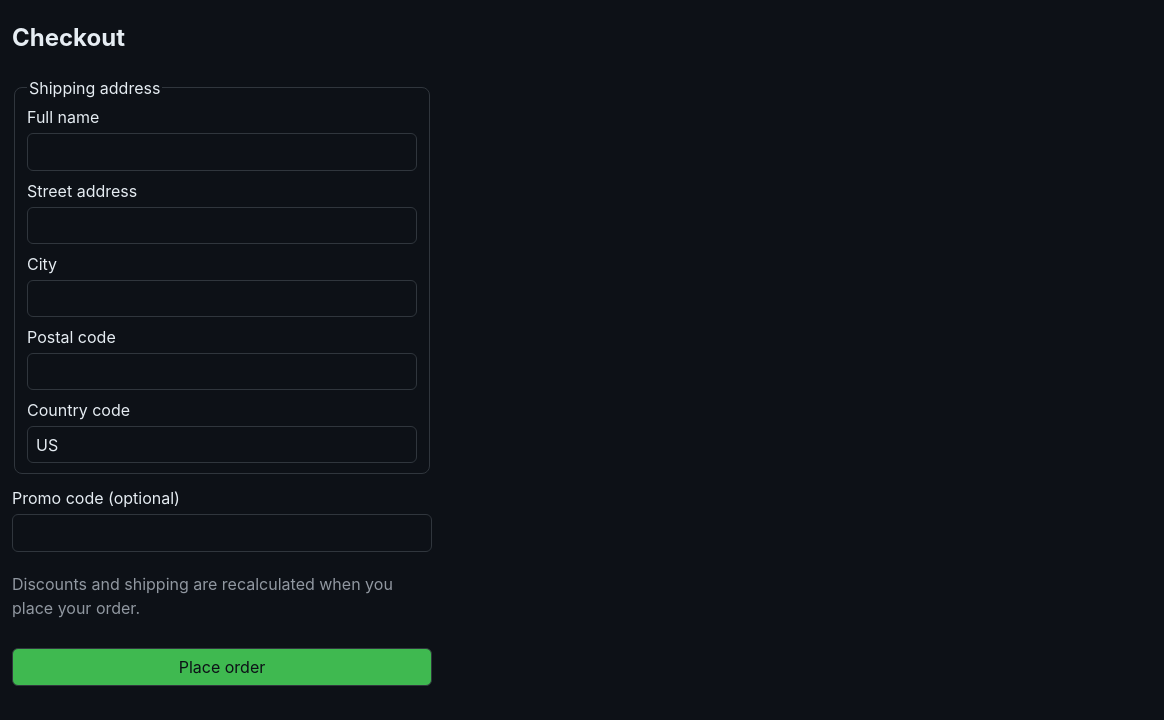
it: CheckoutForm › places an order and shows the API totals
Type "Mona" into the field labelled "Full name".
click(222, 152); type("Mona")  # box left=27, top=133, right=417, bottom=171
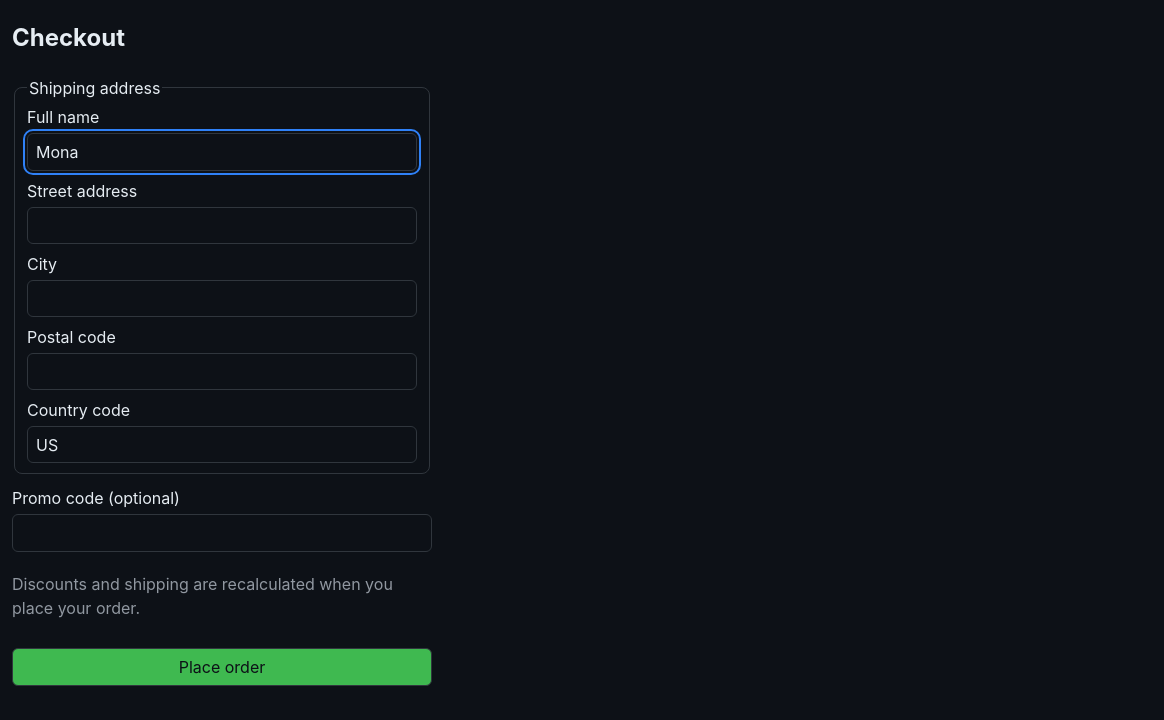
Type "88 Colin P Kelly Jr St" into the field labelled "Street address".
click(222, 225); type("88 Colin P Kelly Jr St")  # box left=27, top=207, right=417, bottom=244
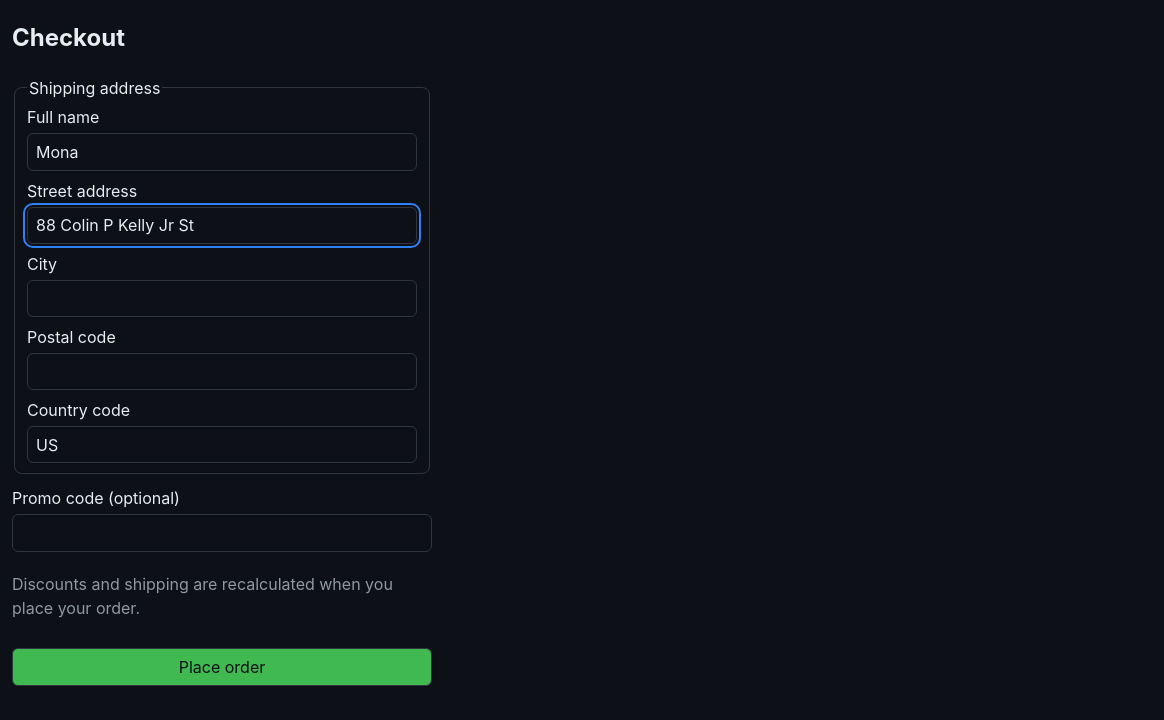
Type "San Francisco" into the field labelled "City".
click(222, 298); type("San Francisco")  # box left=27, top=280, right=417, bottom=317
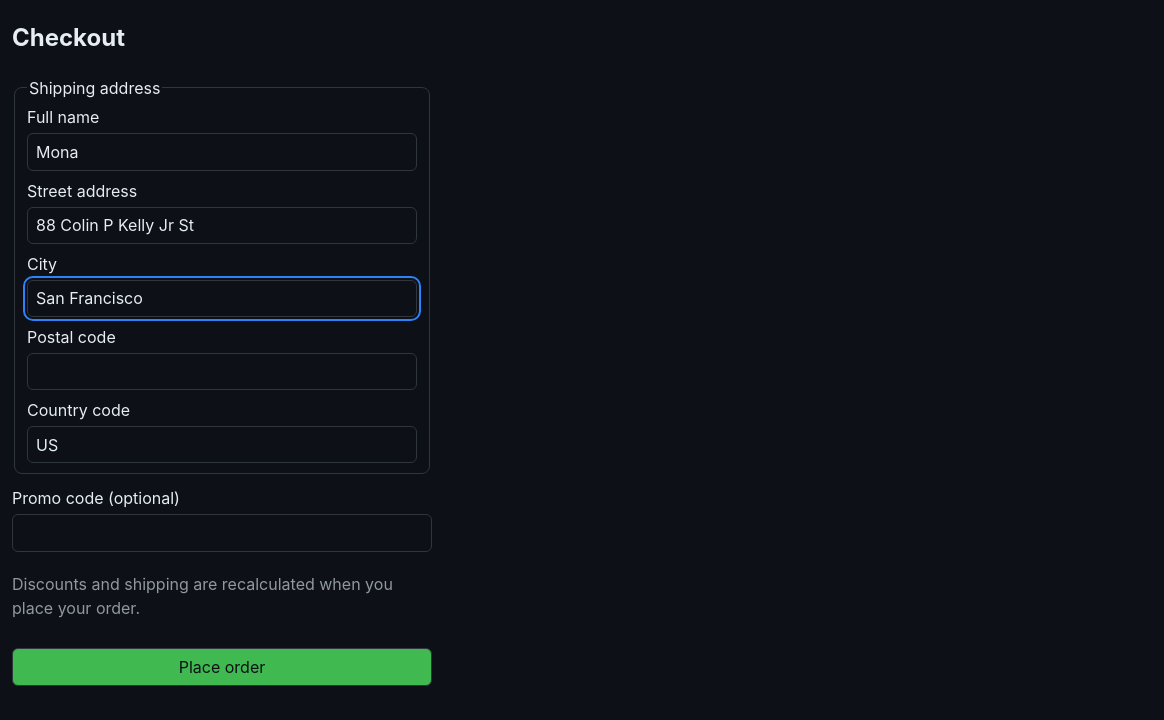
Type "94107" into the field labelled "Postal code".
click(222, 372); type("94107")  # box left=27, top=353, right=417, bottom=390
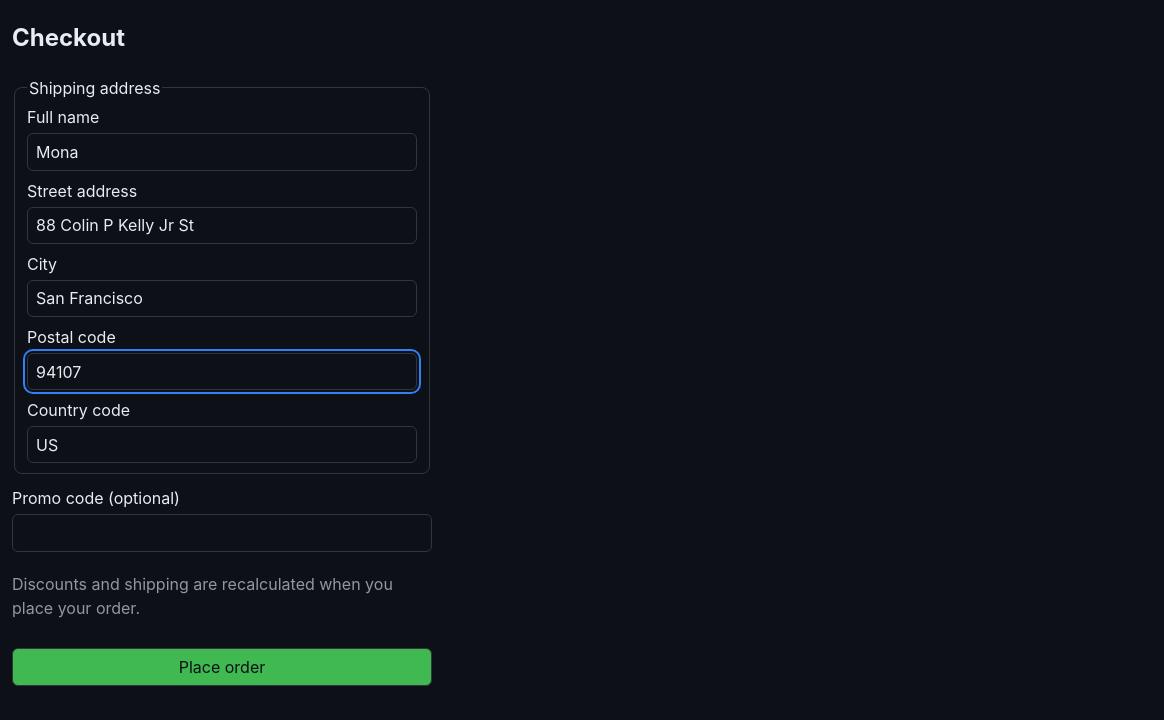
Type "OCTO10" into the field labelled "Promo code (optional)".
click(222, 533); type("OCTO10")  # box left=12, top=514, right=432, bottom=552
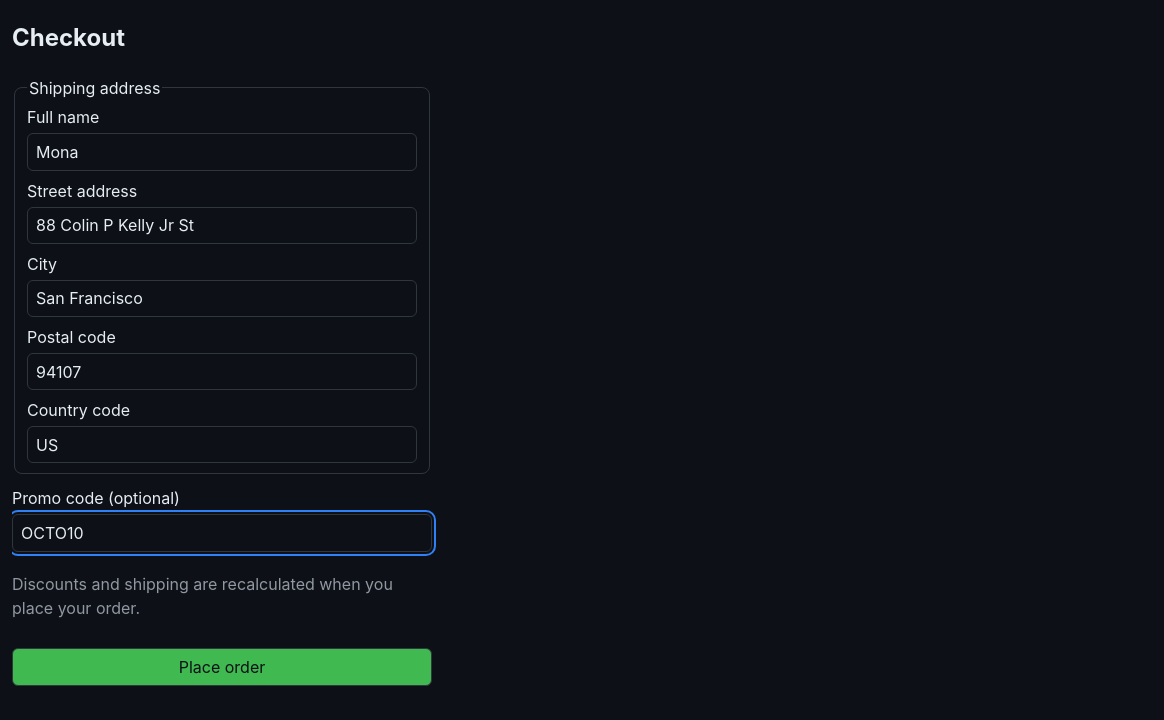
Click the button "Place order".
click(222, 667)  # box left=12, top=648, right=432, bottom=686
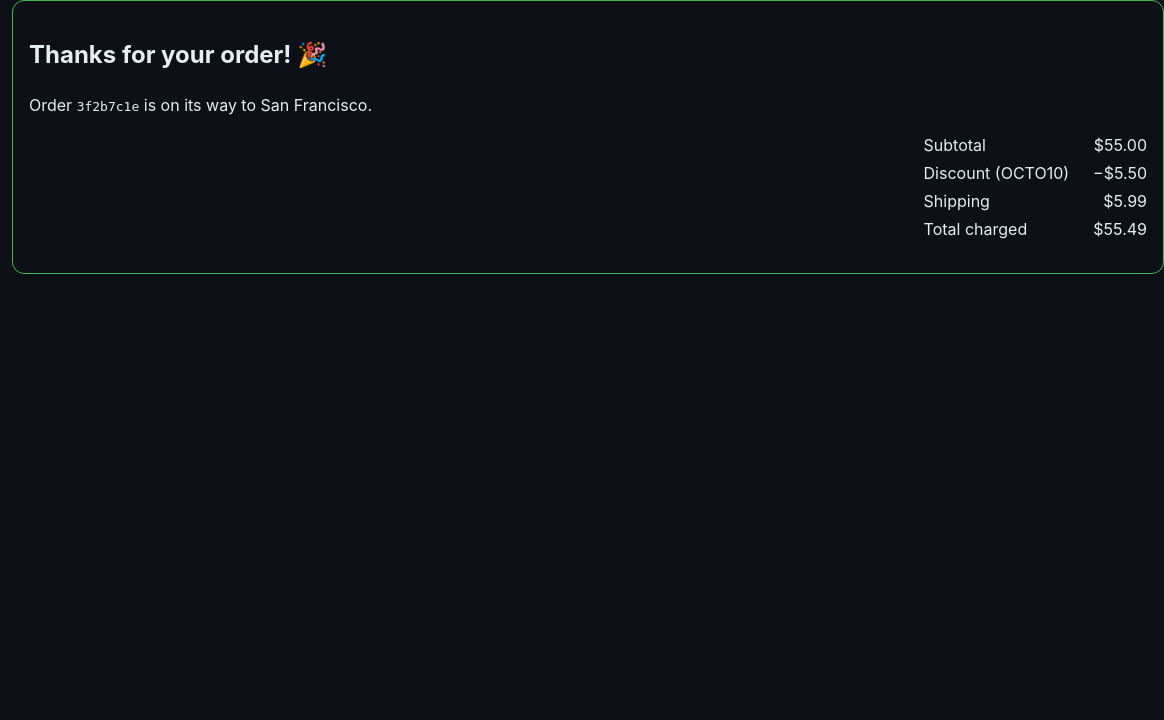
Expected: the heading "Thanks for your order! 🎉" is shown, left=29, top=40, right=327, bottom=69
Expected: the text "$55.49" is shown, left=1093, top=217, right=1147, bottom=241
Expected: the text "−$5.50" is shown, left=1093, top=161, right=1147, bottom=185
